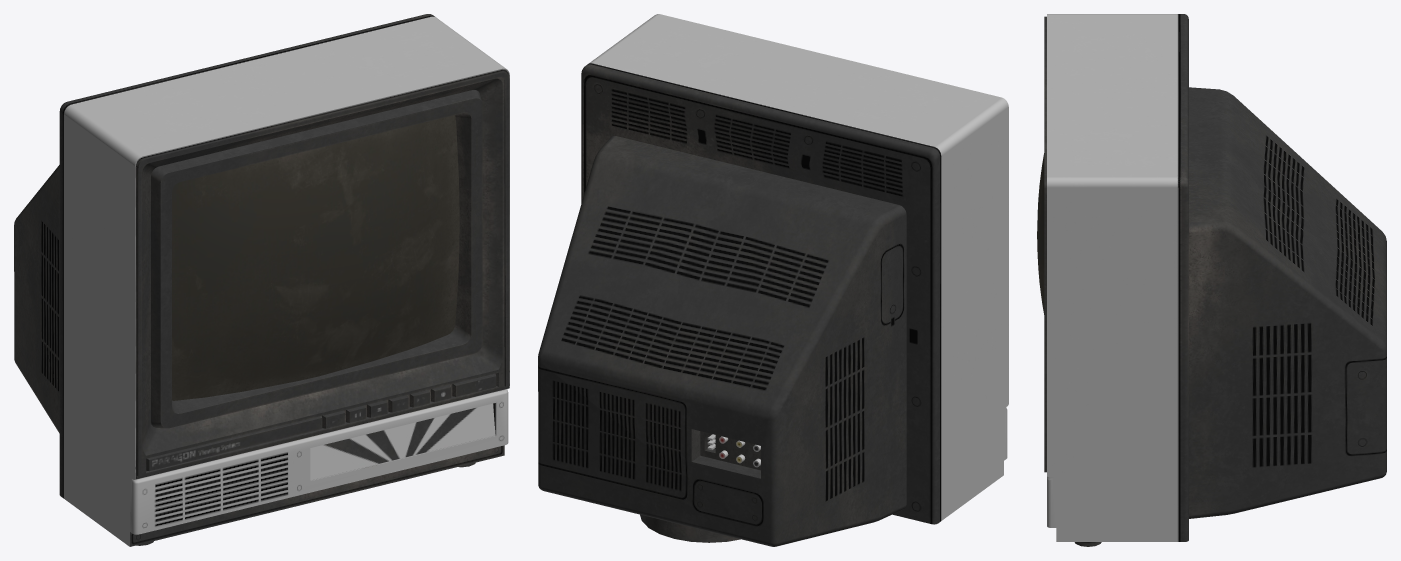
Rendered from television_02.glb.
The picture shows the model from 3 angles, left to right: view 1: azimuth 30°, elevation 25°; view 2: azimuth 150°, elevation 25°; view 3: azimuth 270°, elevation 25°; orthographic projection. The views are drawn at different scales.
Parts seen in each view (by area): view 1: television_02; view 2: television_02; view 3: television_02.
Part boxes in pixels (left/top/right/bottom): television_02: left=14, top=14, right=509, bottom=546; television_02: left=538, top=14, right=1008, bottom=546; television_02: left=1037, top=14, right=1386, bottom=546.
Bounding box in the file's own units: 0.3998 × 0.4114 × 0.3502.
1 material, 1 textured.
